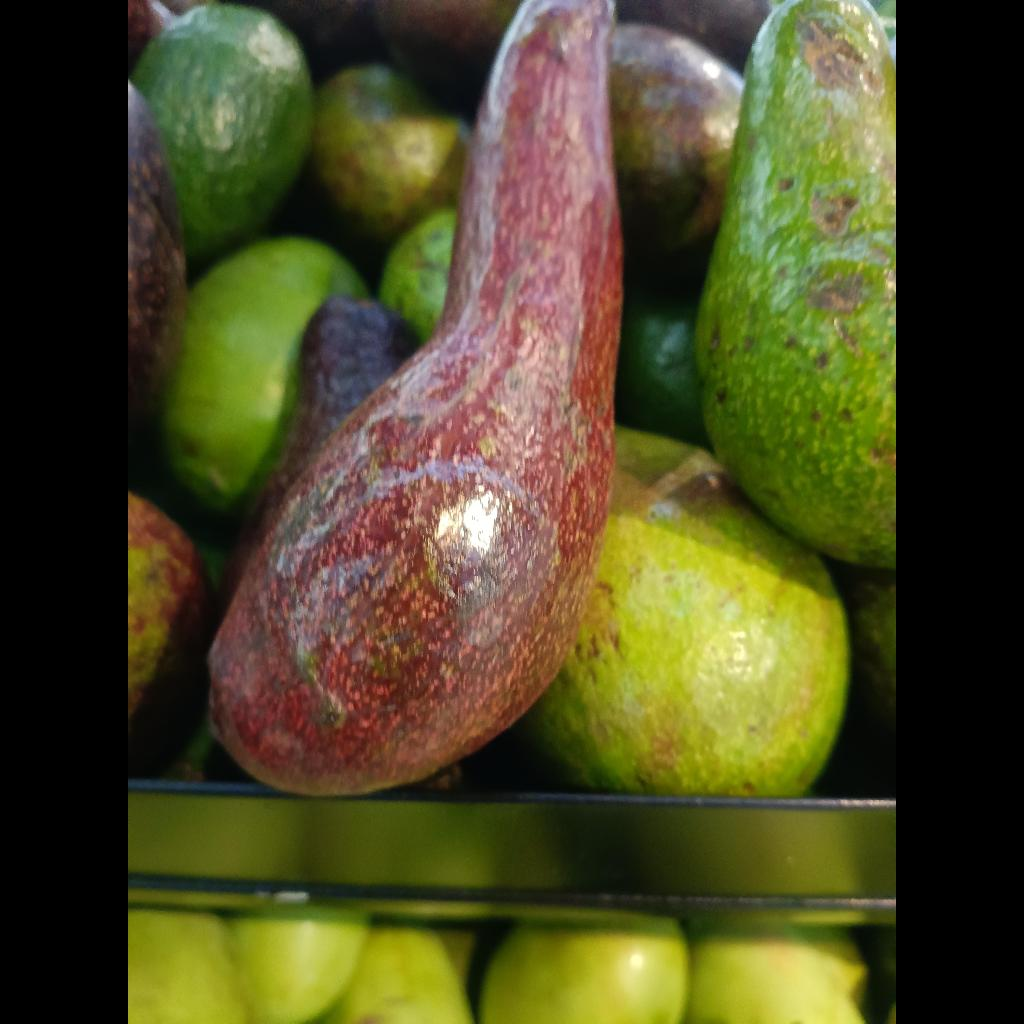antracnosis_fruto: (210, 0, 623, 795)
